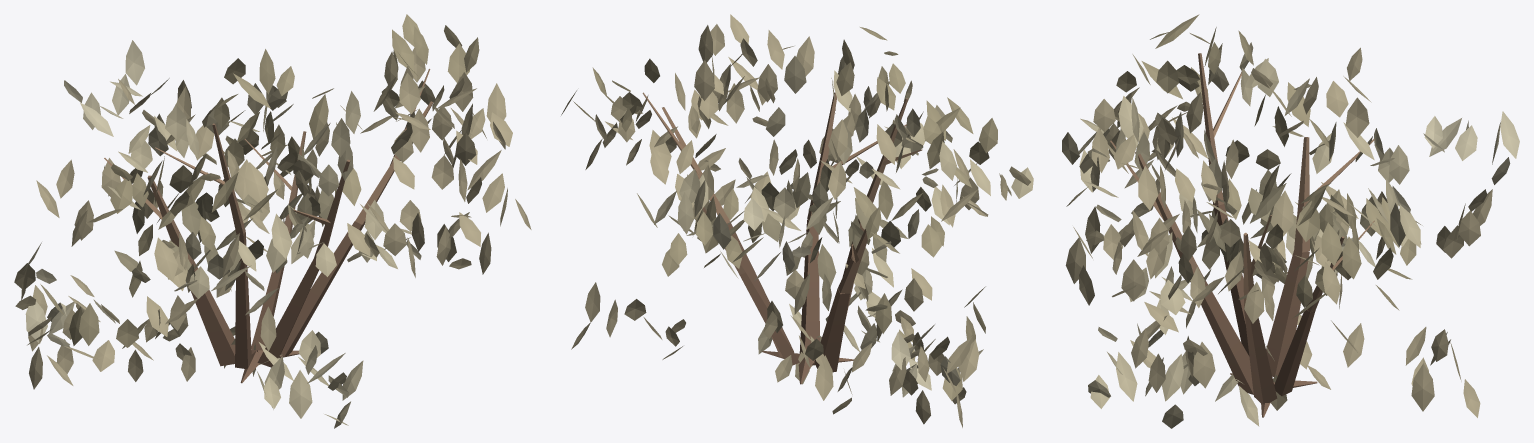
The model's file is bush_3d_03_golden_beige.glb.
3 renders of one model, left to right at view 1: azimuth 30°, elevation 25°; view 2: azimuth 150°, elevation 25°; view 3: azimuth 270°, elevation 25°, orthographic. The views are drawn at different scales.
Visible parts, largest first — view 1: bush_3d_03_golden_beige_foliage, bush_3d_03_golden_beige_wood; view 2: bush_3d_03_golden_beige_foliage, bush_3d_03_golden_beige_wood; view 3: bush_3d_03_golden_beige_foliage, bush_3d_03_golden_beige_wood.
Part boxes in pixels (box(x1,y1,x2,y2)): bush_3d_03_golden_beige_foliage: box(14, 14, 531, 428); bush_3d_03_golden_beige_wood: box(104, 69, 433, 383); bush_3d_03_golden_beige_foliage: box(561, 14, 1033, 427); bush_3d_03_golden_beige_wood: box(642, 92, 922, 384); bush_3d_03_golden_beige_foliage: box(1062, 14, 1519, 428); bush_3d_03_golden_beige_wood: box(1110, 53, 1374, 417).
Size of the model in its own units: 2.6 by 2 by 2.2.
